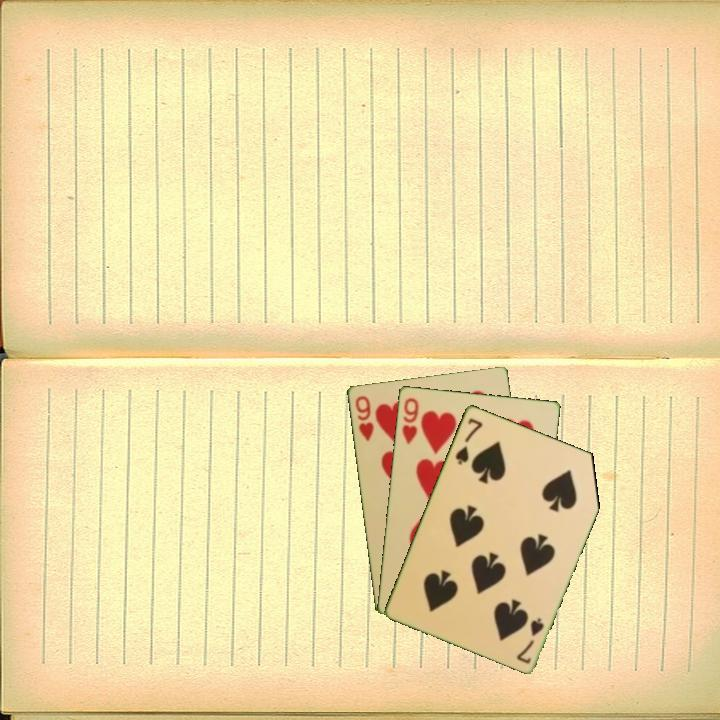7s: (451, 414, 485, 467), (513, 614, 547, 666)
9h: (351, 392, 376, 444), (398, 394, 421, 447)
